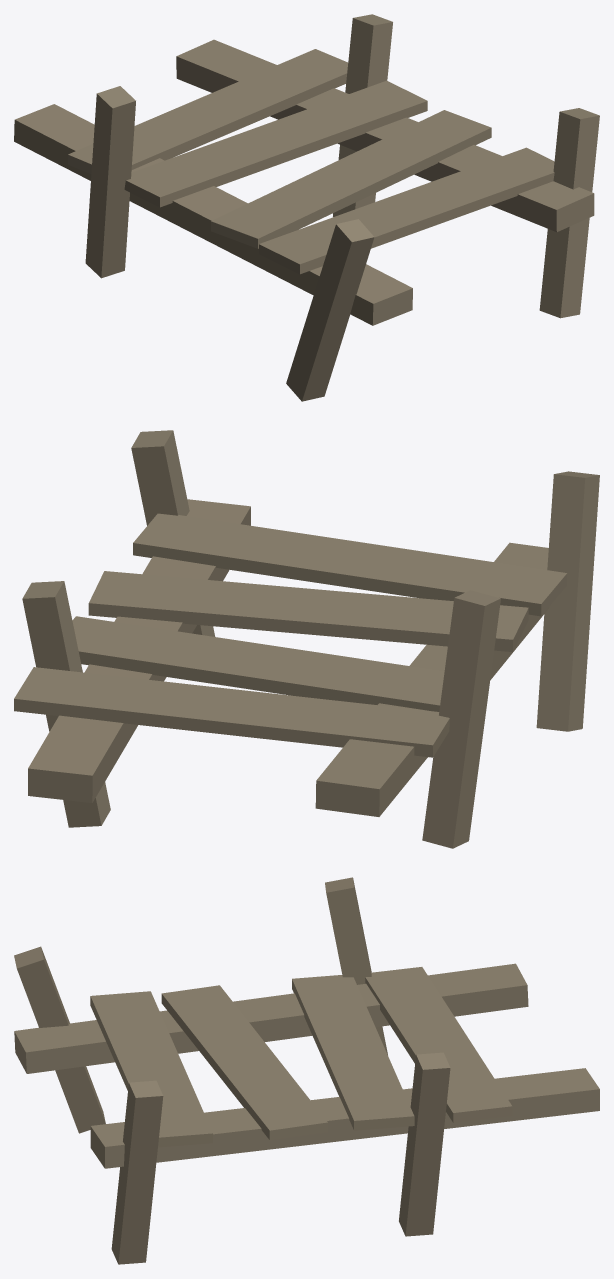
File: fbBerth.fbx
The picture shows the model from 3 angles, top to bottom: view 1: azimuth 30°, elevation 25°; view 2: azimuth 150°, elevation 25°; view 3: azimuth 270°, elevation 25°; orthographic projection. The views are drawn at different scales.
Visible parts, largest first — view 1: fbBerth; view 2: fbBerth; view 3: fbBerth.
Boxes of the visible parts, <box> form: fbBerth: <box>14,14,599,401</box>; fbBerth: <box>14,430,599,848</box>; fbBerth: <box>14,877,599,1264</box>.
Bounding box in the file's own units: 204 × 111 × 272.
